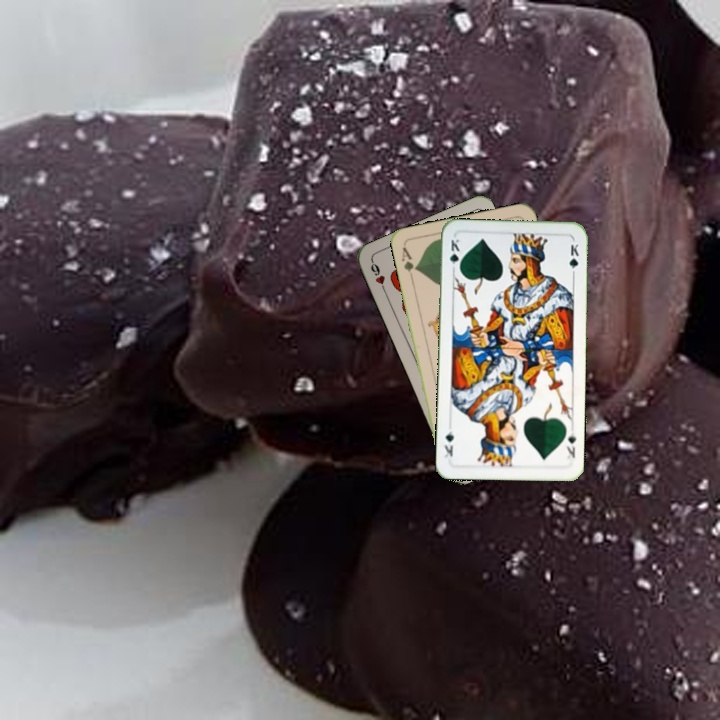GA: (397, 243, 420, 282)
GK: (445, 235, 462, 274), (562, 425, 578, 461)
H9: (366, 257, 389, 296)
